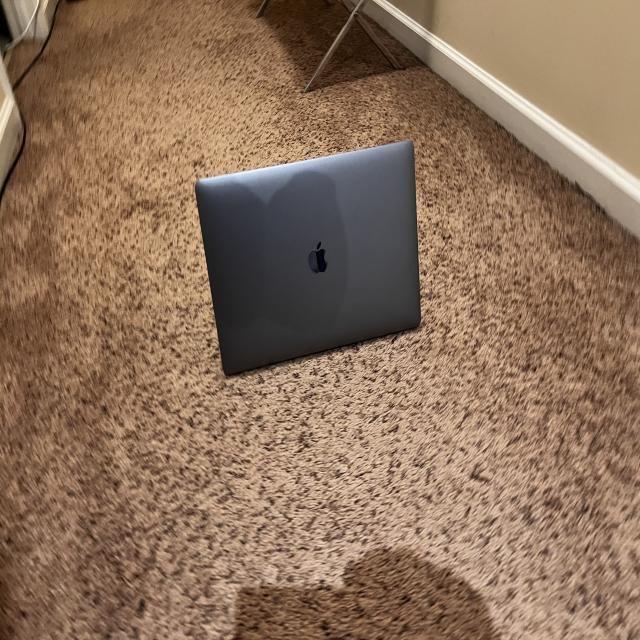laptop: (193, 138, 421, 376)
